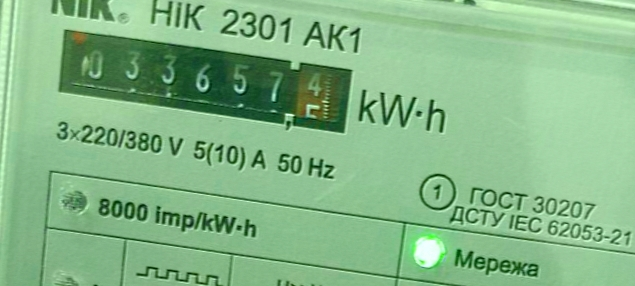0: (83, 45, 109, 85)
3: (121, 47, 145, 85), (157, 52, 180, 89)
4: (304, 69, 327, 101)
5: (226, 60, 254, 99)
6: (190, 60, 215, 97)
7: (263, 68, 286, 106)
screen: (42, 18, 364, 146)
